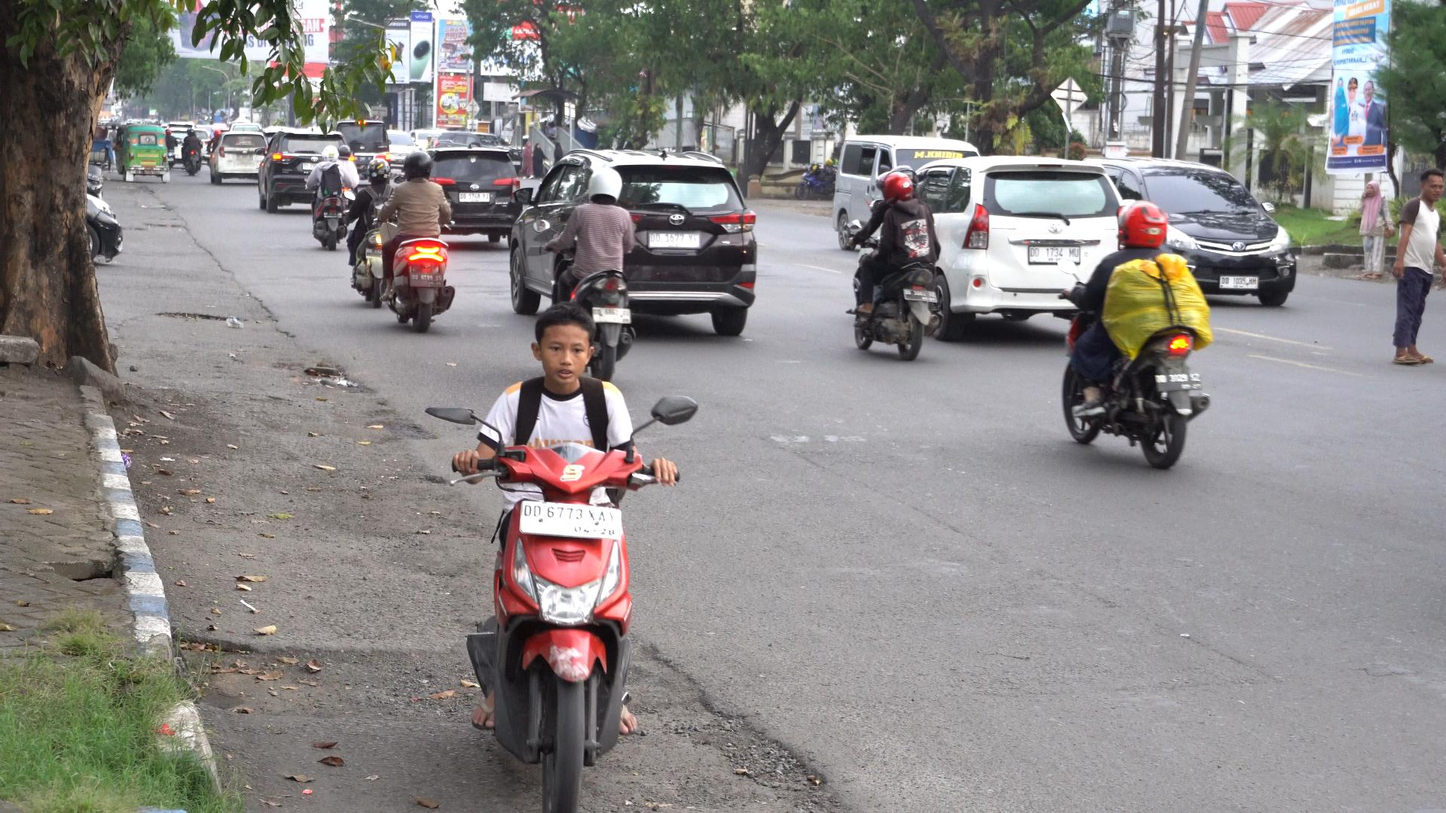number-plate: (515, 495, 628, 548)
